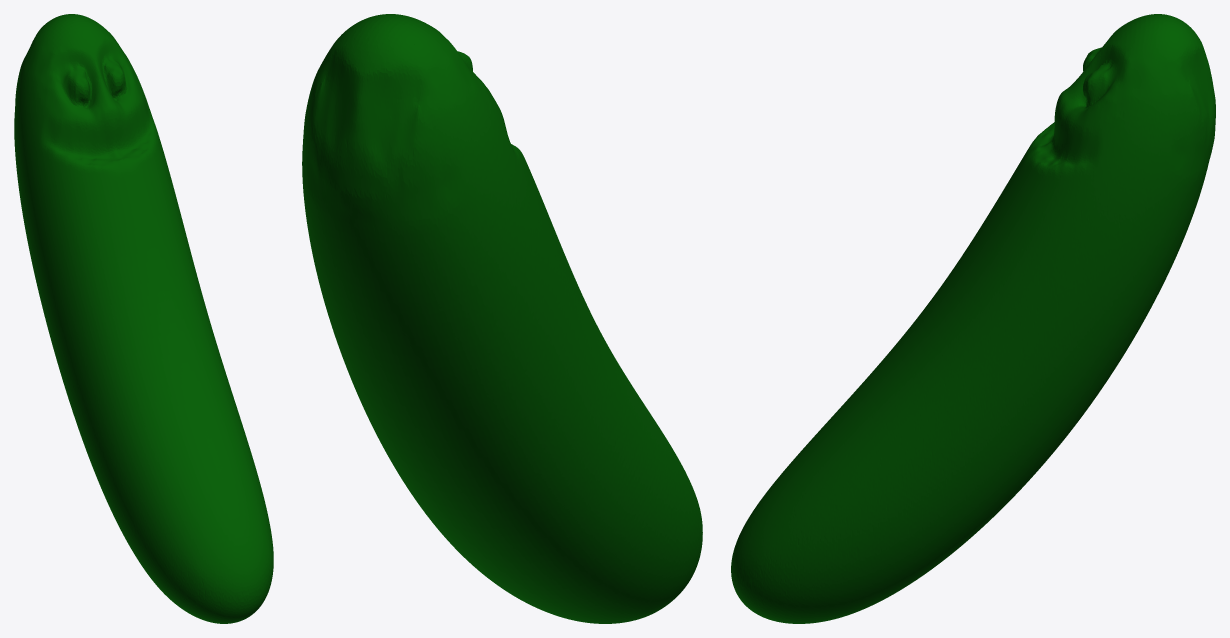
The model's file is I'm pickle rick.obj.
The picture shows the model from 3 angles, left to right: view 1: azimuth 30°, elevation 25°; view 2: azimuth 150°, elevation 25°; view 3: azimuth 270°, elevation 25°; orthographic projection. The views are drawn at different scales.
Visible parts, largest first — view 1: Cube; view 2: Cube; view 3: Cube.
Boxes of the visible parts, bbox=[...] form: Cube: bbox=[14, 14, 273, 623]; Cube: bbox=[302, 14, 702, 623]; Cube: bbox=[731, 14, 1215, 623].
Size of the model in its own units: 1.82 by 6.35 by 4.66.
